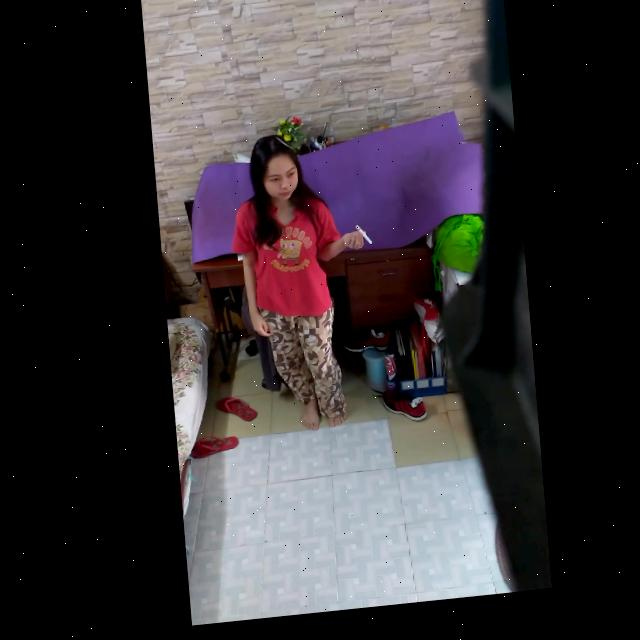cigarette: (351, 231, 367, 253)
